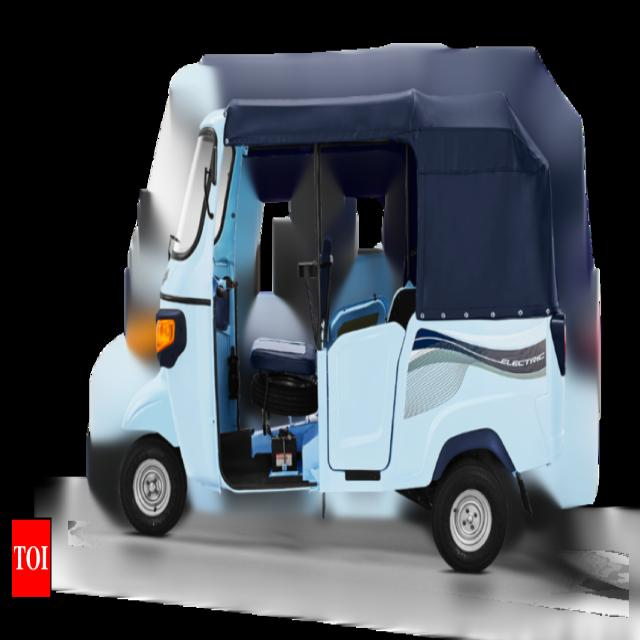autorickshaw: (120, 90, 566, 571)
